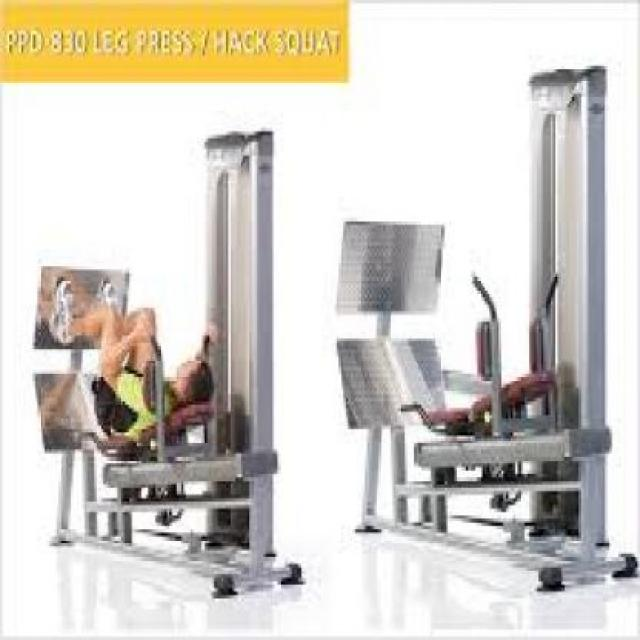leg press: (320, 57, 640, 614), (19, 112, 306, 606)
